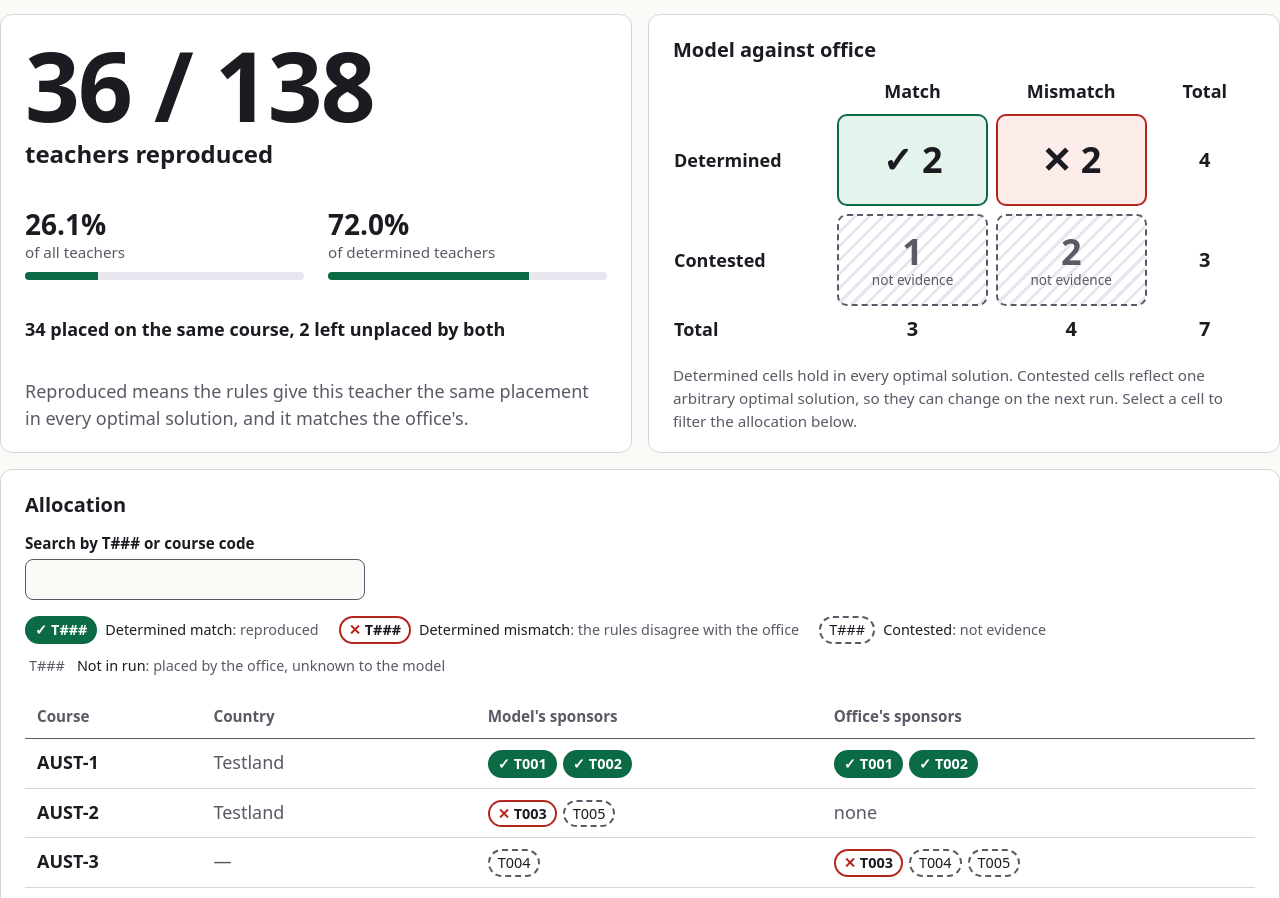
Test case: Results empty courses and unplaced teachers › searching for an empty course opens the summary line
Type "aust-5" into the search field labelled "Search by T### or course code". click: point(195, 580)
box: [25,559,365,600]
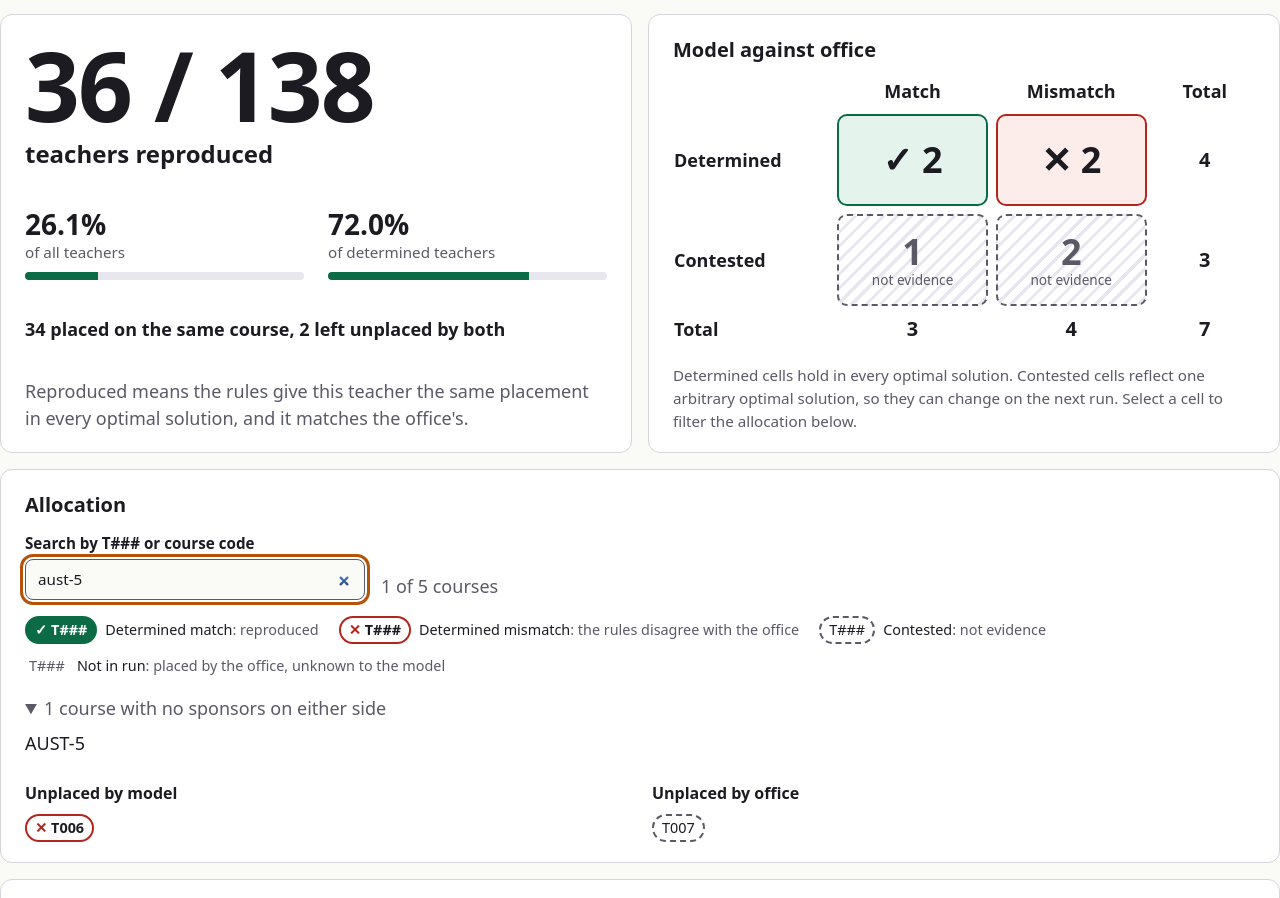
Result: the text "1 course with no sponsors on either side" has attribute open at [25,696,386,755]
Clear the search field labelled "Search by T### or course code". click: point(195, 580)
box: [25,559,365,600]
(page scrolled)
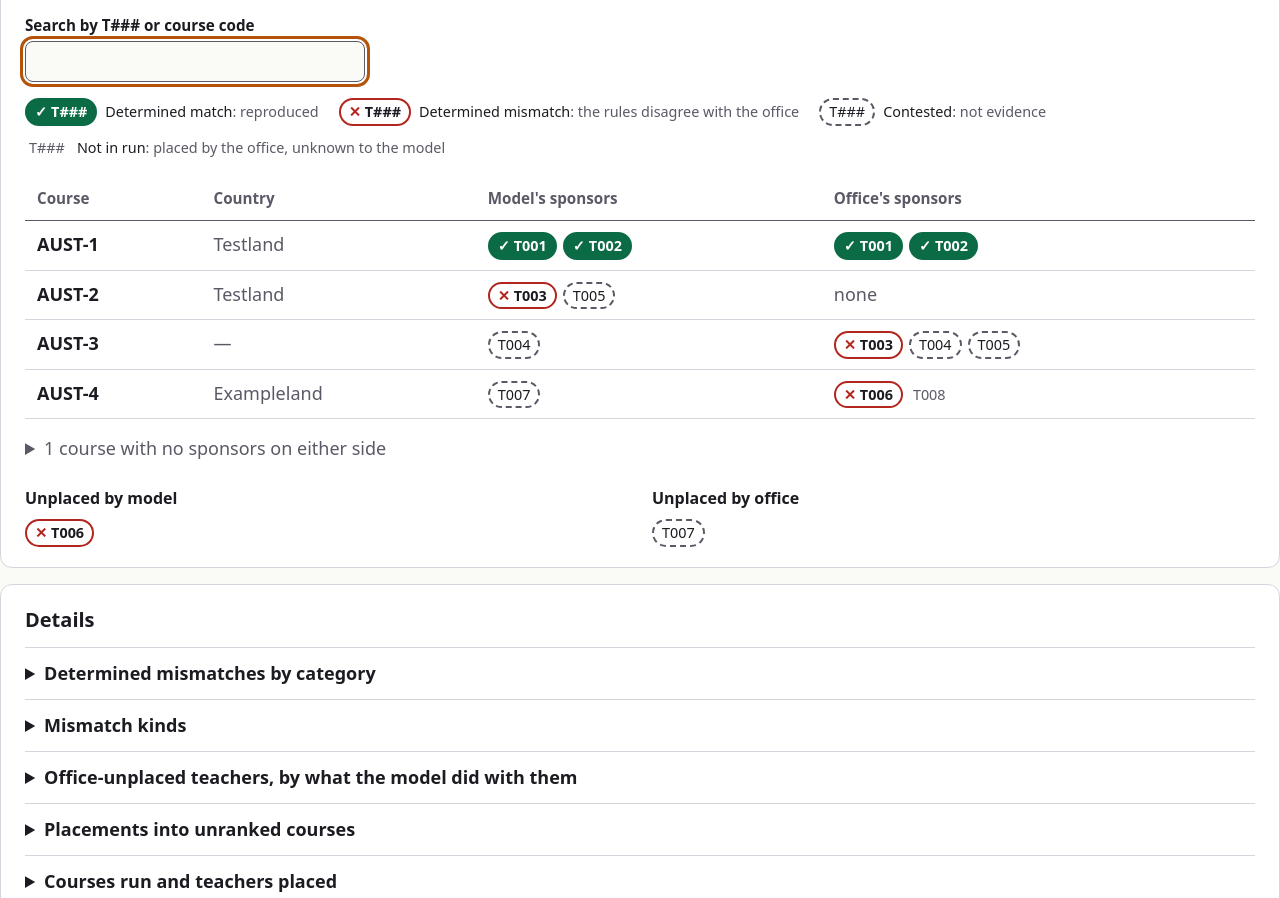
Result: the text "1 course with no sponsors on either side" does not have attribute open at [44,436,386,460]
